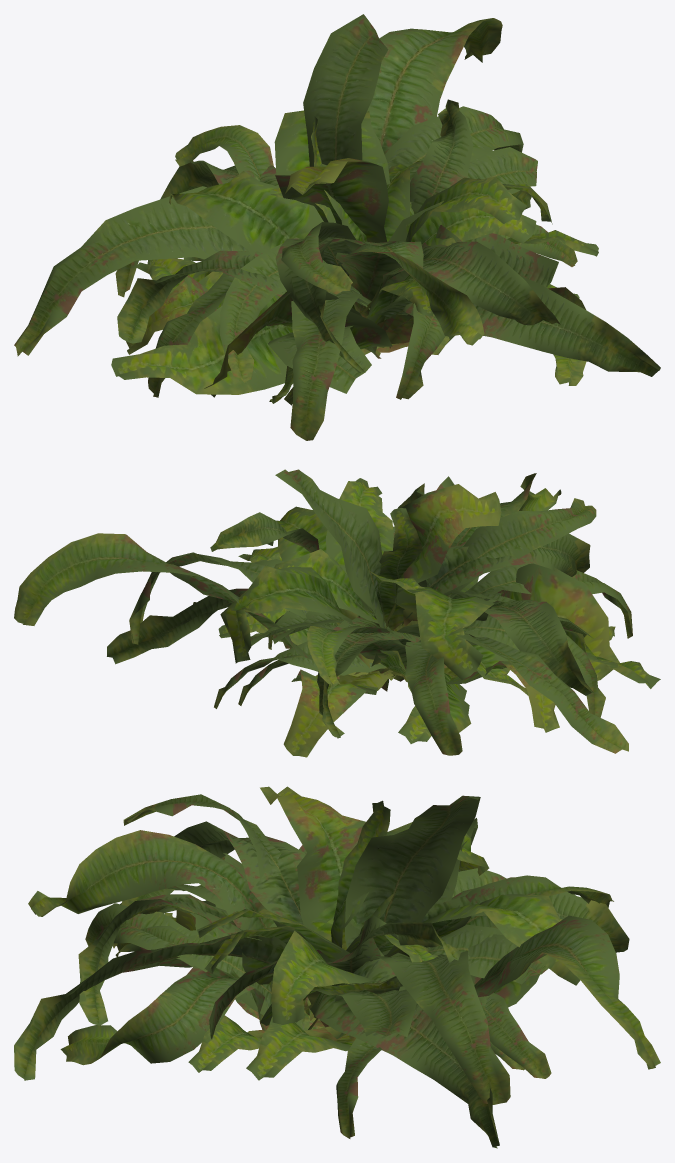
File: fern_02.glb
The picture shows the model from 3 angles, top to bottom: view 1: azimuth 30°, elevation 25°; view 2: azimuth 150°, elevation 25°; view 3: azimuth 270°, elevation 25°; orthographic projection. The views are drawn at different scales.
Visible parts, largest first — view 1: fern_02_a_lod0, fern_02_d_lod0, fern_02_c_lod0, fern_02_b_lod0; view 2: fern_02_a_lod0, fern_02_d_lod0, fern_02_b_lod0, fern_02_c_lod0; view 3: fern_02_a_lod0, fern_02_d_lod0, fern_02_b_lod0, fern_02_c_lod0.
Boxes of the visible parts, x1=… form: fern_02_a_lod0: x1=14, y1=14, x2=660, y2=440; fern_02_d_lod0: x1=111, y1=116, x2=586, y2=405; fern_02_c_lod0: x1=136, y1=237, x2=579, y2=403; fern_02_b_lod0: x1=198, y1=99, x2=558, y2=354; fern_02_a_lod0: x1=14, y1=469, x2=632, y2=757; fern_02_d_lod0: x1=107, y1=476, x2=660, y2=755; fern_02_b_lod0: x1=210, y1=512, x2=528, y2=708; fern_02_c_lod0: x1=267, y1=553, x2=615, y2=743; fern_02_a_lod0: x1=14, y1=786, x2=660, y2=1138; fern_02_d_lod0: x1=60, y1=794, x2=613, y2=1148; fern_02_b_lod0: x1=115, y1=892, x2=551, y2=1078; fern_02_c_lod0: x1=127, y1=900, x2=407, y2=1072.
Size of what is drawn, in the model's own units: 0.9897 by 0.4277 by 0.8937.
Materials: 1 (1 with a texture image).
